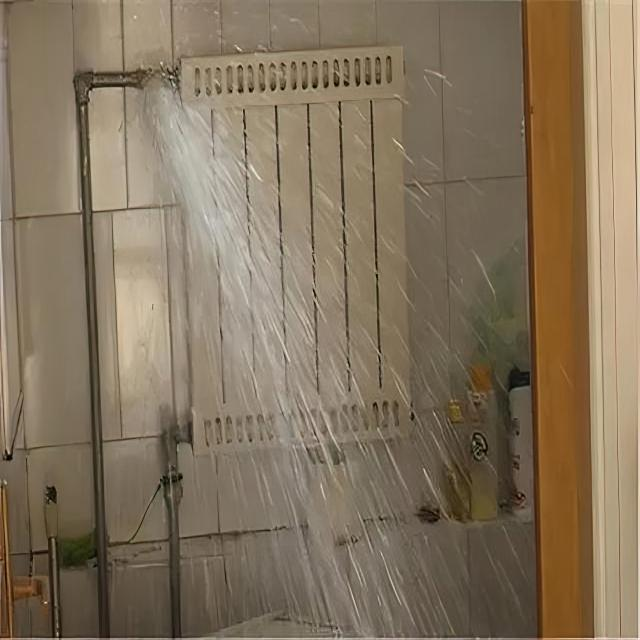leak: (133, 68, 557, 640)
